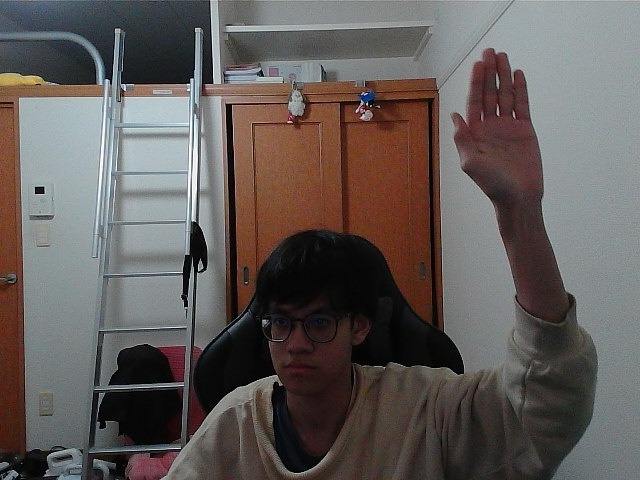open_palm: (457, 55, 524, 197)
